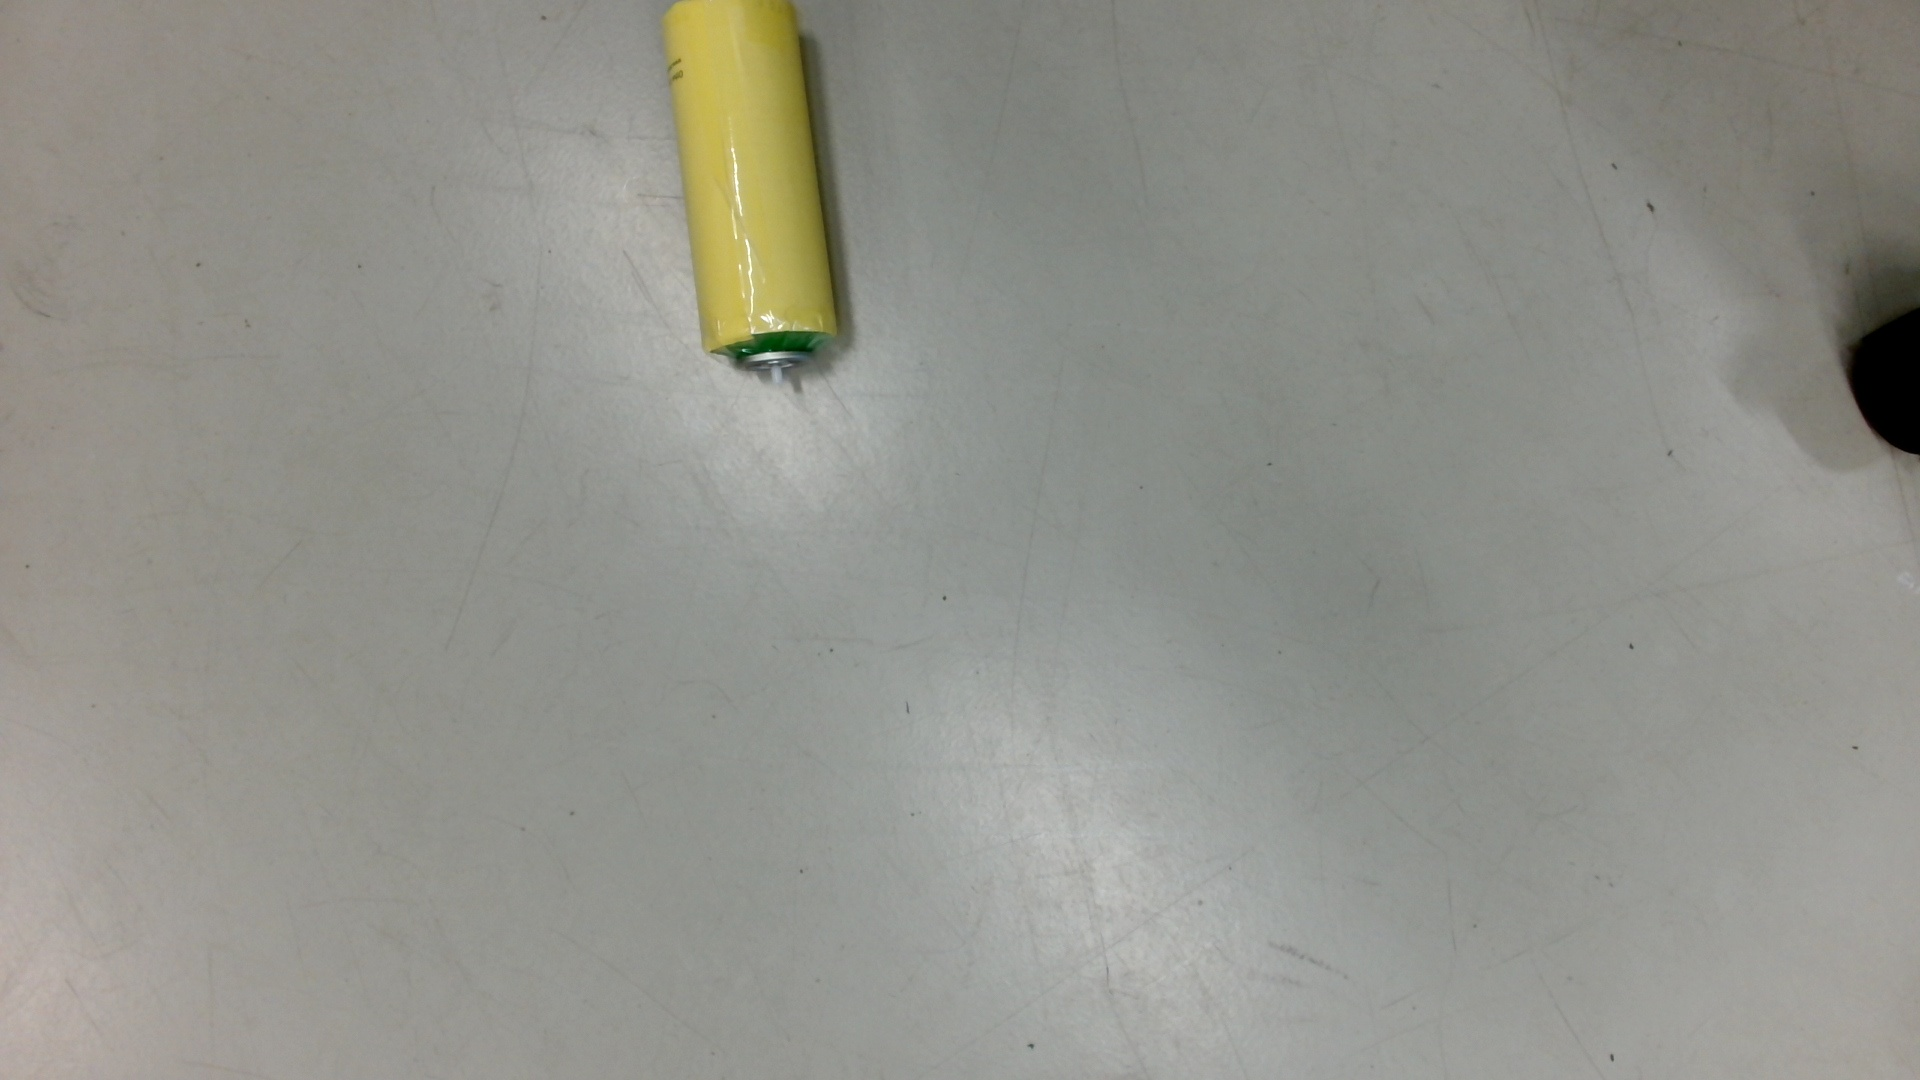Cylinder: (641, 1, 868, 400)
